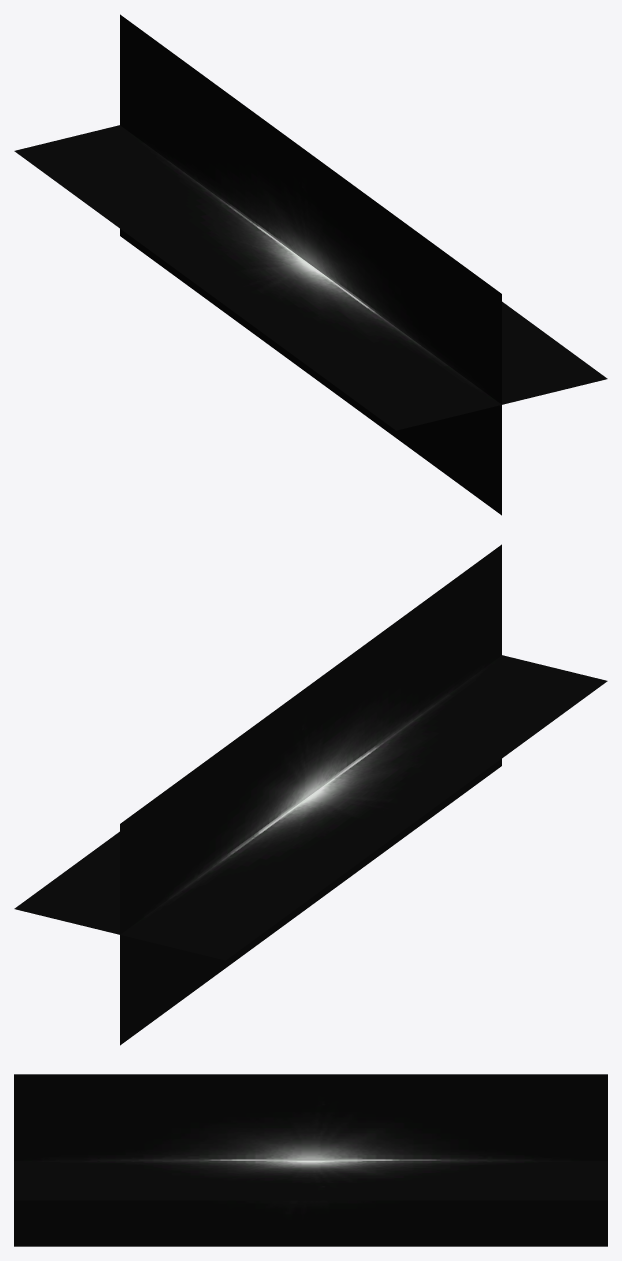
Rendered from Fx_shizhipian_25x08_001.FBX.
3 renders of one model, top to bottom at view 1: azimuth 30°, elevation 25°; view 2: azimuth 150°, elevation 25°; view 3: azimuth 270°, elevation 25°, orthographic. The views are drawn at different scales.
Parts seen in each view (by area): view 1: shizipian_2.5x0.8_001; view 2: shizipian_2.5x0.8_001; view 3: shizipian_2.5x0.8_001.
Boxes of the visible parts, box(x1,y1,x2,y2) form: shizipian_2.5x0.8_001: box(14, 14, 607, 515); shizipian_2.5x0.8_001: box(14, 544, 607, 1045); shizipian_2.5x0.8_001: box(14, 1074, 607, 1246).
Size of the model in its own units: 0.8 by 0.8 by 2.5.
